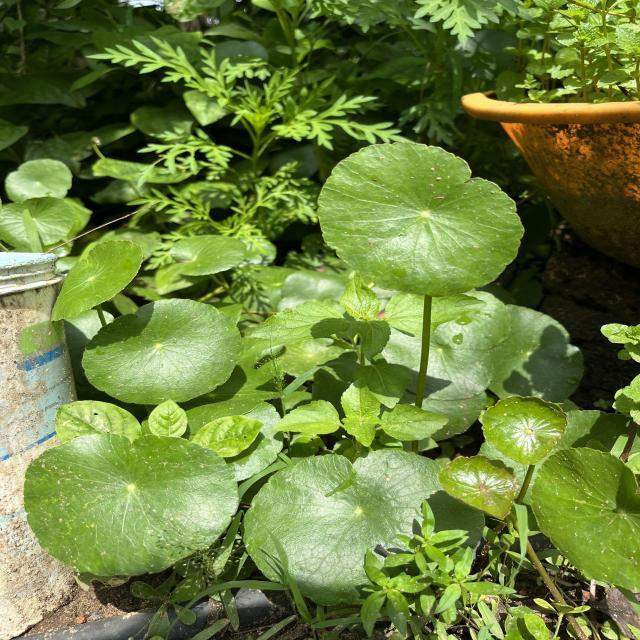Bacopa monnieri: (314, 136, 528, 298), (20, 430, 243, 578), (78, 294, 250, 408), (527, 442, 640, 595), (50, 236, 146, 322), (478, 392, 572, 468), (434, 449, 520, 522)
